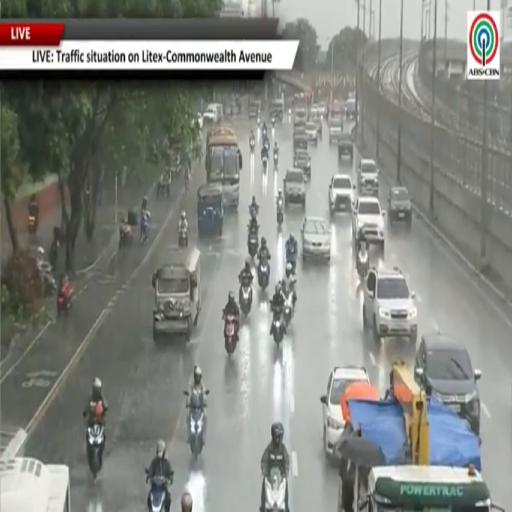bus: (0, 458, 70, 511), (206, 125, 242, 207)
car: (415, 332, 481, 435), (321, 366, 369, 456), (363, 267, 417, 344), (352, 197, 386, 252), (301, 217, 330, 260), (329, 174, 355, 214), (388, 186, 412, 226), (283, 169, 306, 205), (358, 158, 379, 196), (338, 132, 353, 162), (294, 149, 311, 175), (328, 115, 343, 143), (306, 122, 318, 145), (345, 99, 357, 121), (294, 108, 307, 123), (249, 101, 260, 118), (314, 118, 322, 138), (309, 104, 318, 120), (196, 112, 203, 130), (318, 102, 326, 117)
jeepney: (354, 466, 492, 511), (152, 248, 200, 339), (198, 184, 223, 235), (293, 132, 308, 153), (270, 99, 284, 121)
motorcycle: (184, 391, 205, 457), (36, 248, 56, 296), (265, 468, 287, 511), (87, 423, 104, 478), (149, 475, 167, 511), (57, 281, 74, 315), (224, 315, 238, 356), (272, 308, 284, 345), (282, 288, 293, 328), (240, 283, 252, 315), (357, 250, 369, 280), (258, 259, 269, 290), (119, 223, 133, 247), (286, 247, 297, 275), (140, 216, 150, 246), (50, 238, 59, 270), (248, 231, 258, 258), (276, 197, 284, 226), (28, 215, 37, 233), (179, 229, 187, 247), (249, 205, 258, 219), (262, 154, 267, 171), (250, 138, 255, 152), (274, 152, 278, 169), (262, 127, 267, 138), (271, 118, 275, 128), (257, 117, 260, 126)
truck: (349, 361, 503, 511)
